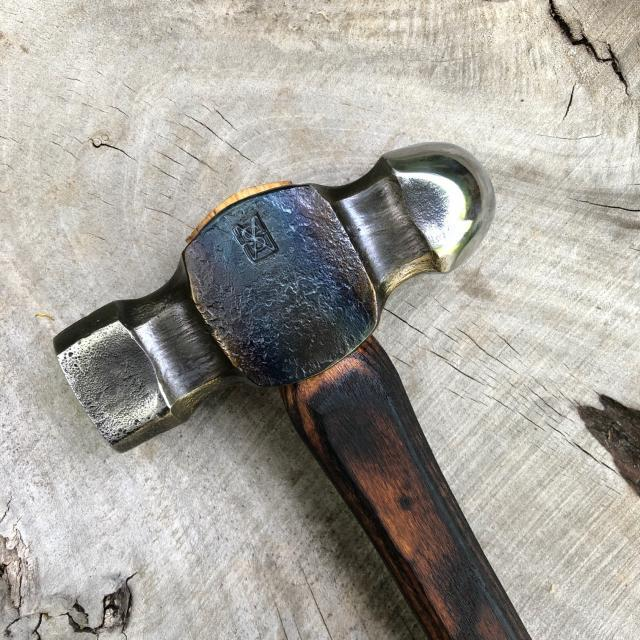hammer: (42, 131, 541, 640)
